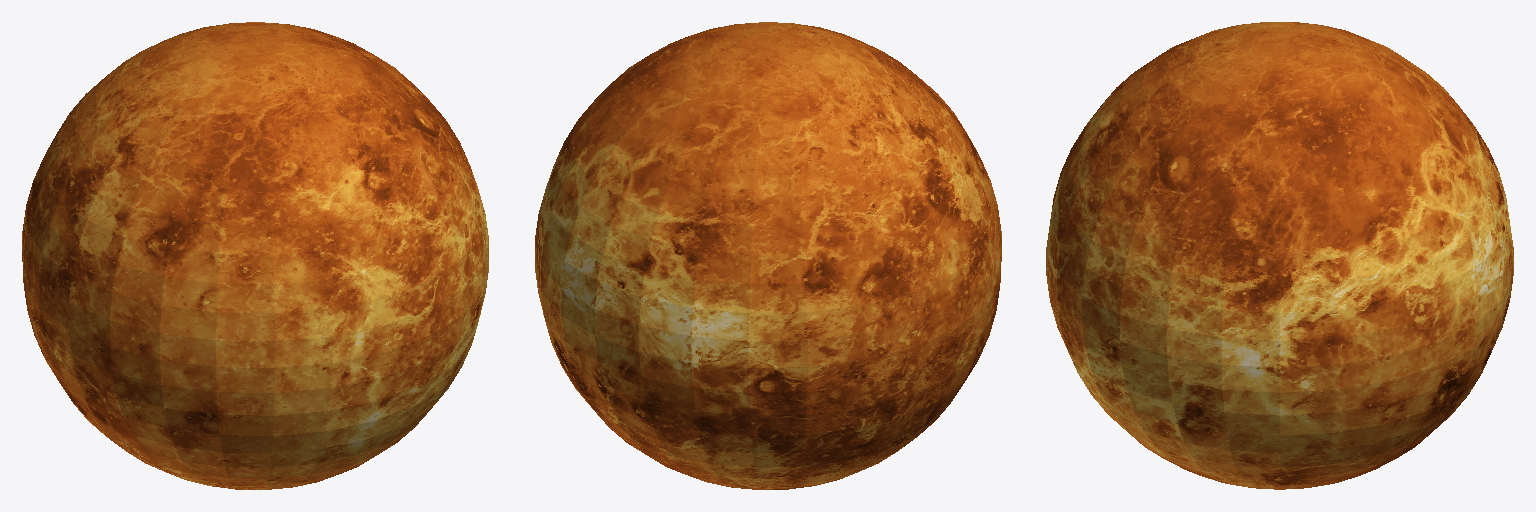
3 renders of one model, left to right at view 1: azimuth 30°, elevation 25°; view 2: azimuth 150°, elevation 25°; view 3: azimuth 270°, elevation 25°, orthographic.
Parts seen in each view (by area): view 1: venus; view 2: venus; view 3: venus.
Part boxes in pixels (bbox=[...]): venus: bbox=[22, 22, 488, 489]; venus: bbox=[535, 22, 1001, 489]; venus: bbox=[1046, 22, 1513, 489].
Bounding box in the file's own units: 38.71 × 38.94 × 38.78.
Materials: 1 (1 with a texture image).